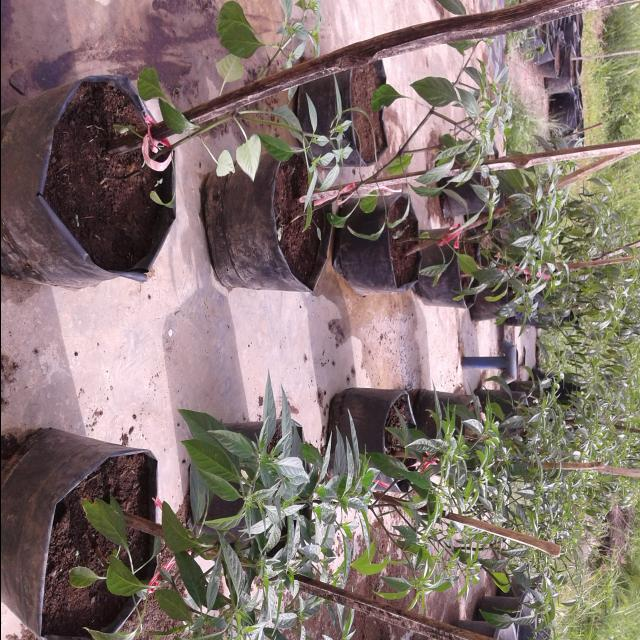sehat: (174, 436, 236, 492), (402, 60, 458, 115), (213, 420, 265, 460)
